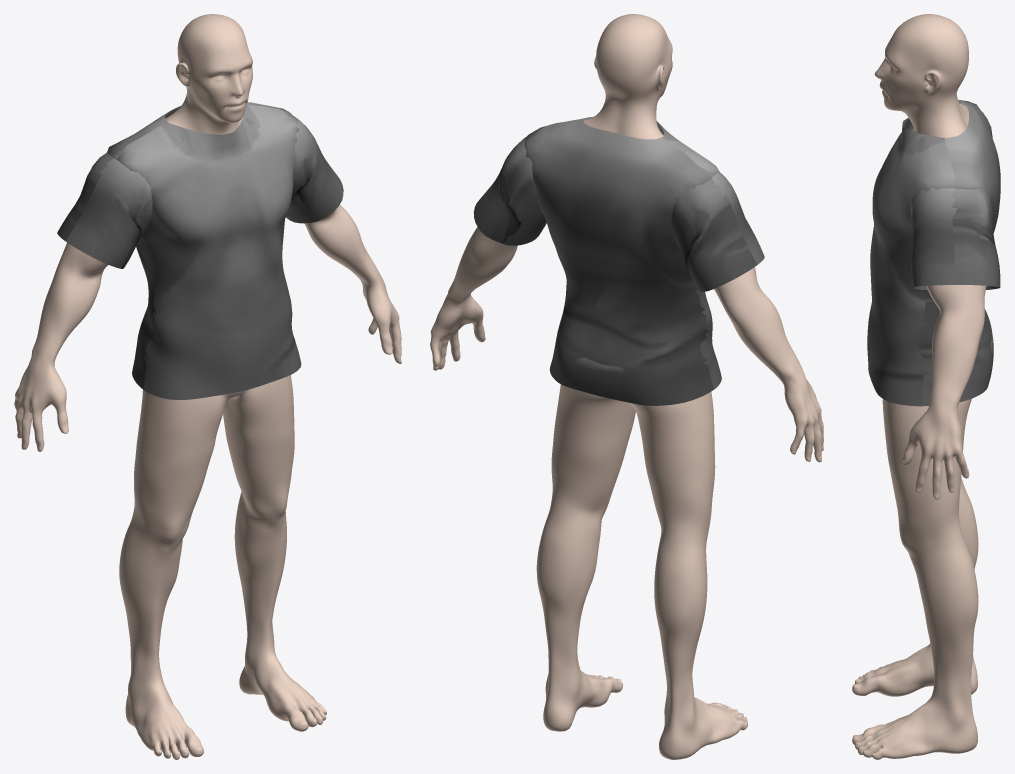
3 renders of one model, left to right at view 1: azimuth 30°, elevation 25°; view 2: azimuth 150°, elevation 25°; view 3: azimuth 270°, elevation 25°, orthographic.
Parts seen in each view (by area): view 1: human, garment.tshirt; view 2: human, garment.tshirt; view 3: human, garment.tshirt.
Part boxes in pixels (x1,y1,x2,y2): human: (14,14,401,759); garment.tshirt: (57,102,343,399); human: (430,14,823,759); garment.tshirt: (473,116,764,405); human: (852,14,986,759); garment.tshirt: (867,100,1000,406).
Size of the model in its own units: 1.01 by 1.8 by 0.3447.
2 materials, 1 textured.
